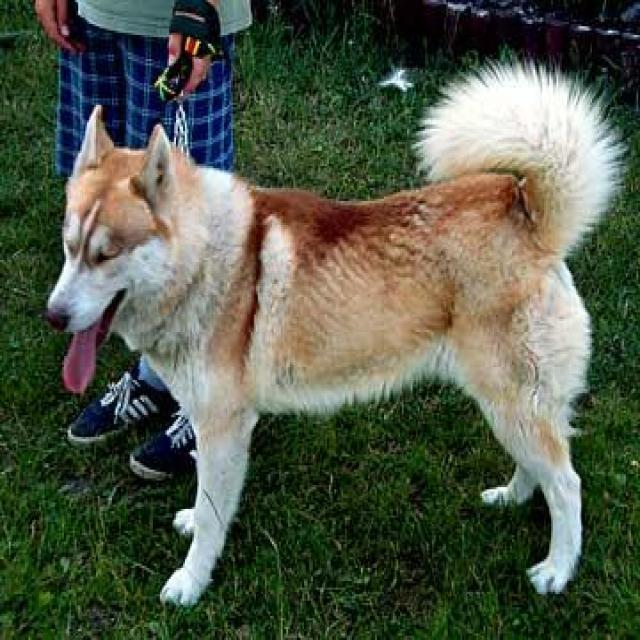adult_dog: (43, 53, 626, 610)
